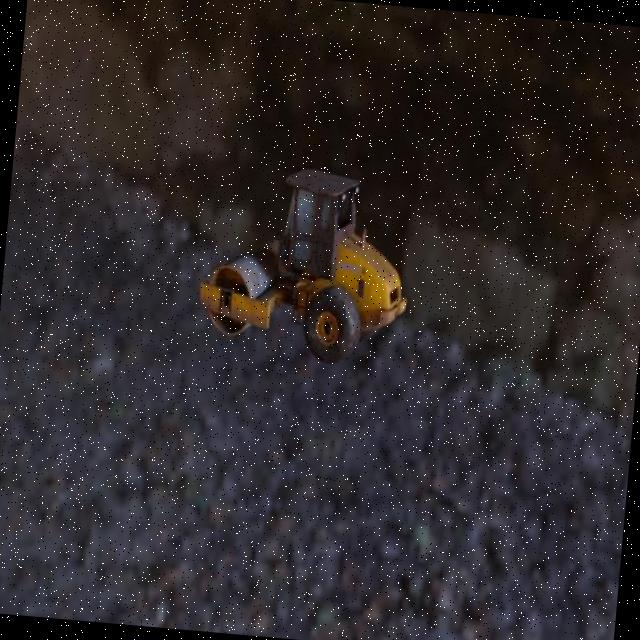Roller: (194, 160, 418, 370)
